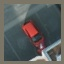car: (22, 20, 44, 48)
